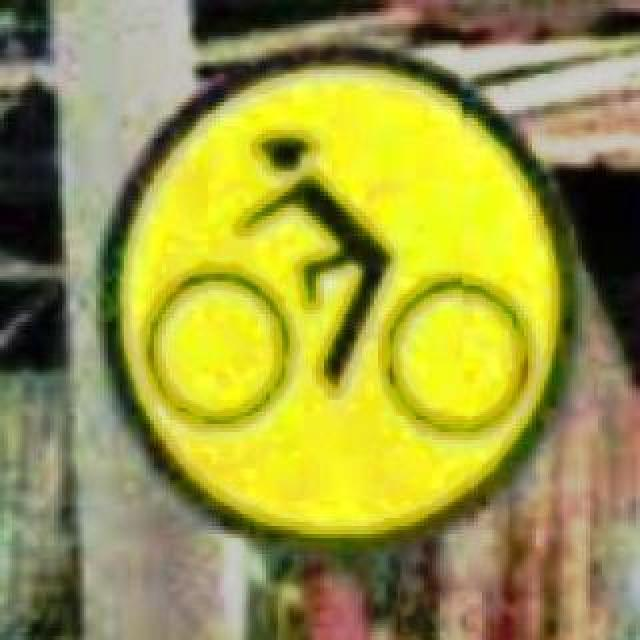bike lane: (98, 38, 580, 550)
